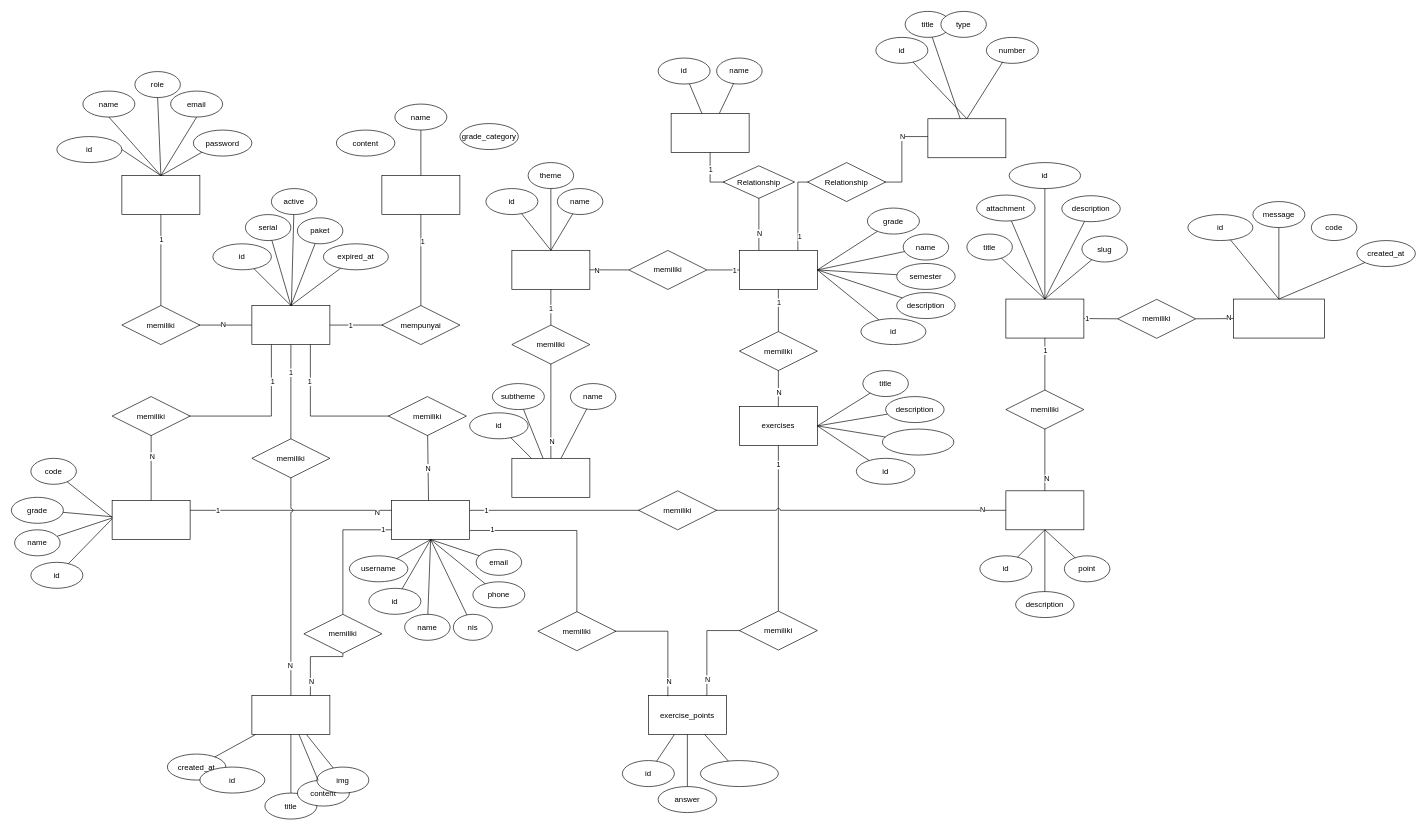
Image size: 1427x831. Some labels were removed from this diagram. Each missing label, with the centre of its shape:
classrooms: [150,520]
final_score: [739,773]
lesson_items: [966,138]
lessons: [778,269]
mapels: [709,132]
post_comments: [1278,318]
posts: [1044,318]
products: [420,195]
reports: [290,715]
serials: [290,325]
shared_to_classes: [918,441]
students: [430,520]
subthemes: [550,477]
tasks: [1044,510]
themes: [550,269]
users: [160,195]
